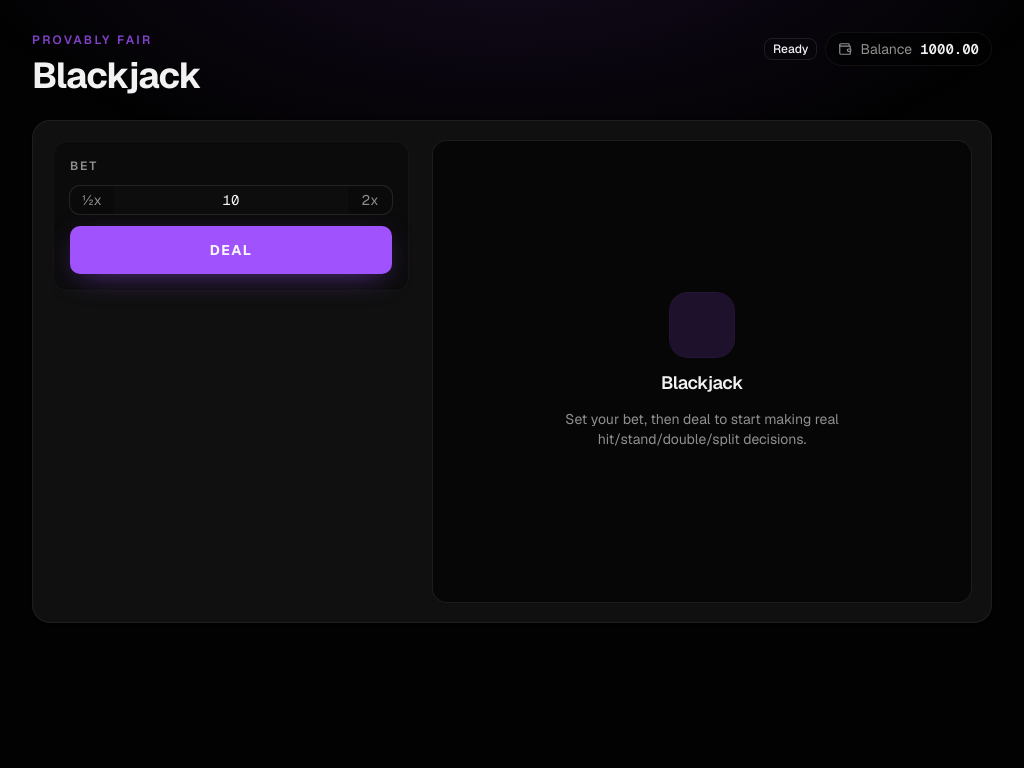
Test case: BlackjackRoundPage › runs deal -> stand, showing the result and a Play Again button
Click the button "DEAL".
click(231, 250)  # box [70,226,392,274]
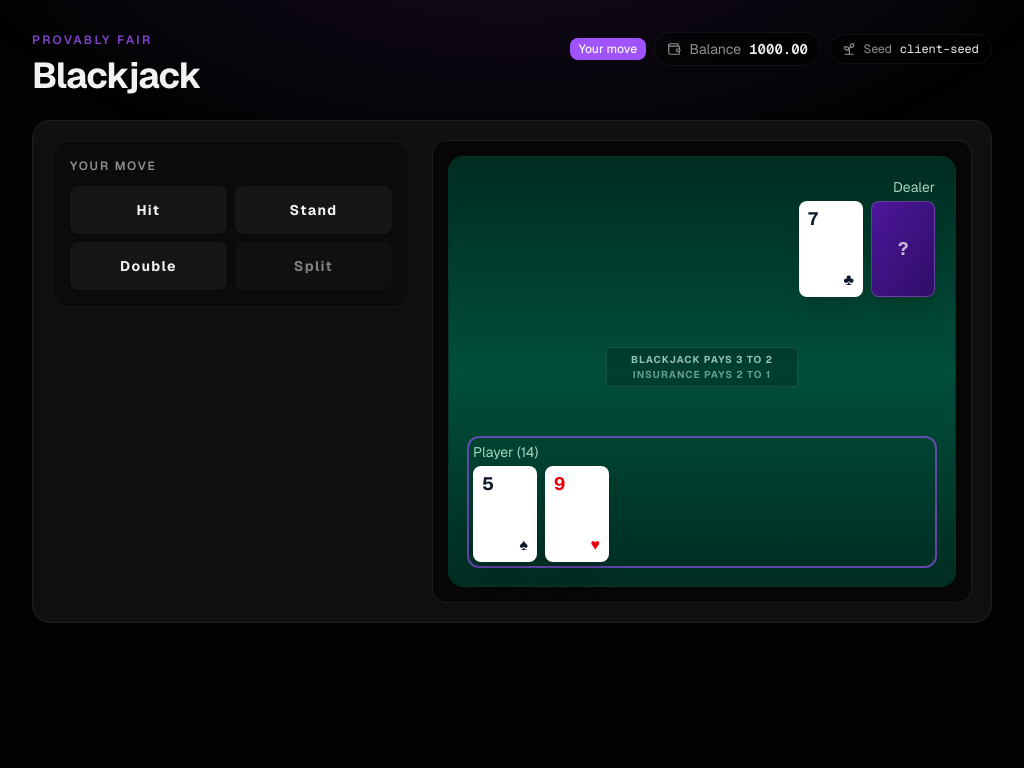
Click the button "Stand".
click(314, 210)  # box [235,186,392,234]
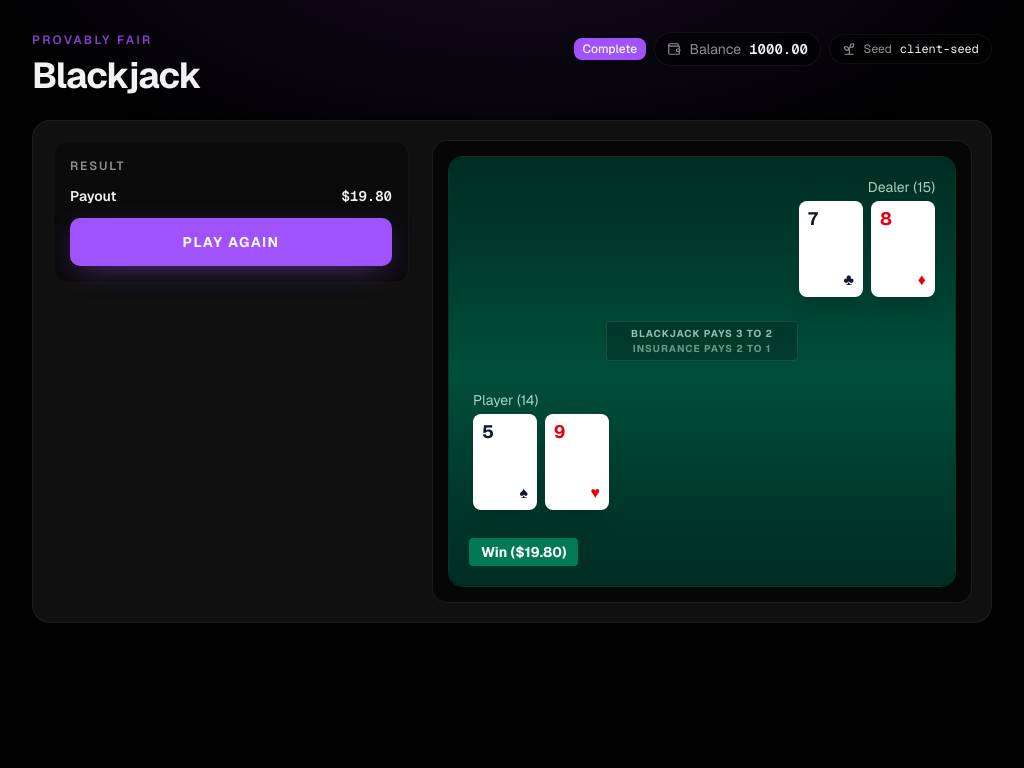
Expected: the button "PLAY AGAIN" is shown, [70,218,392,266]
Expected: the text "Win ($19.80)" is shown, [469,538,578,566]
